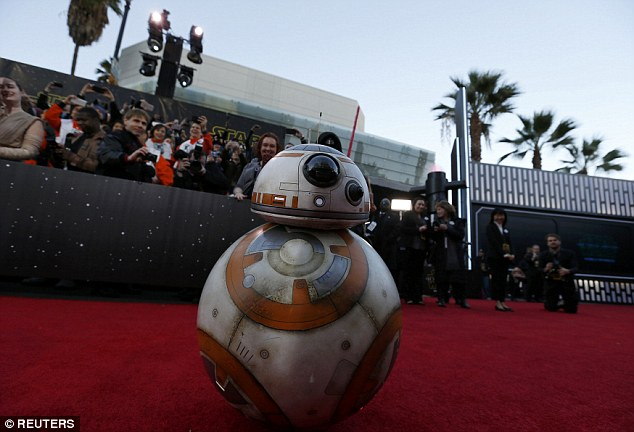bb8: (196, 143, 401, 425)
